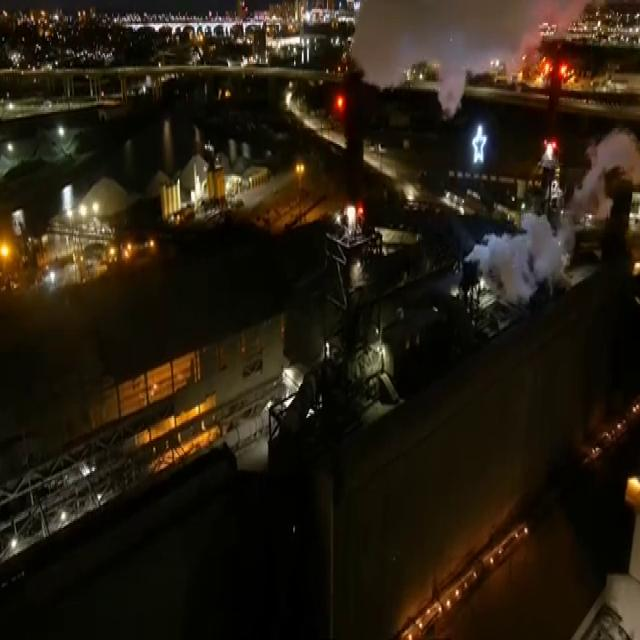smoke: (359, 0, 588, 114), (460, 208, 563, 300), (566, 126, 640, 238)
